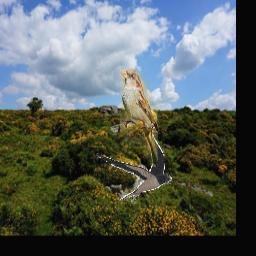Sparrow: (120, 70, 158, 168)
Swallow: (96, 128, 172, 204)
